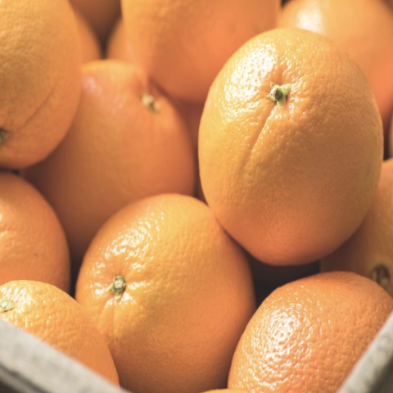orange: (187, 7, 390, 275), (62, 170, 264, 392)
